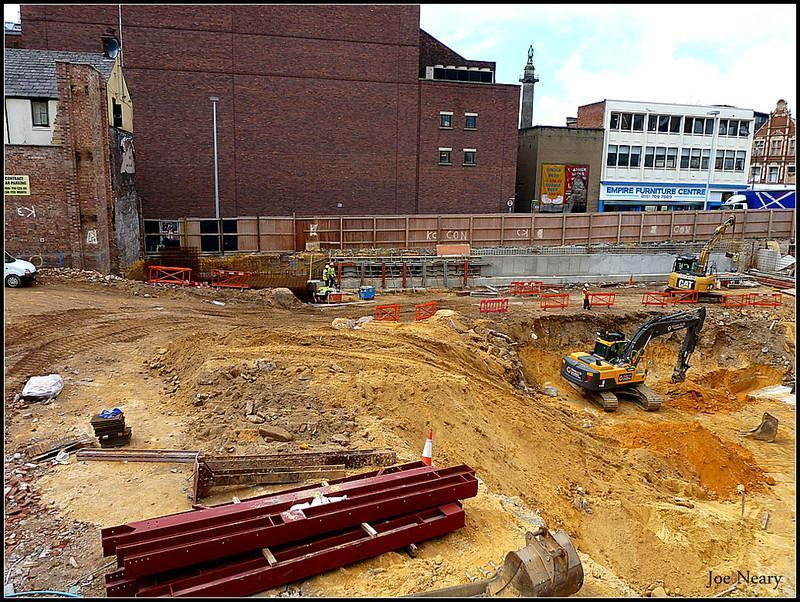Helmet: (330, 262, 334, 266), (325, 264, 329, 268), (585, 283, 588, 287)
Person: (582, 283, 590, 310), (330, 262, 338, 288), (322, 264, 330, 286)
